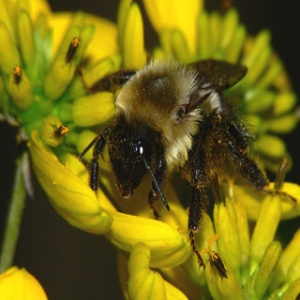bee: (92, 59, 268, 230)
